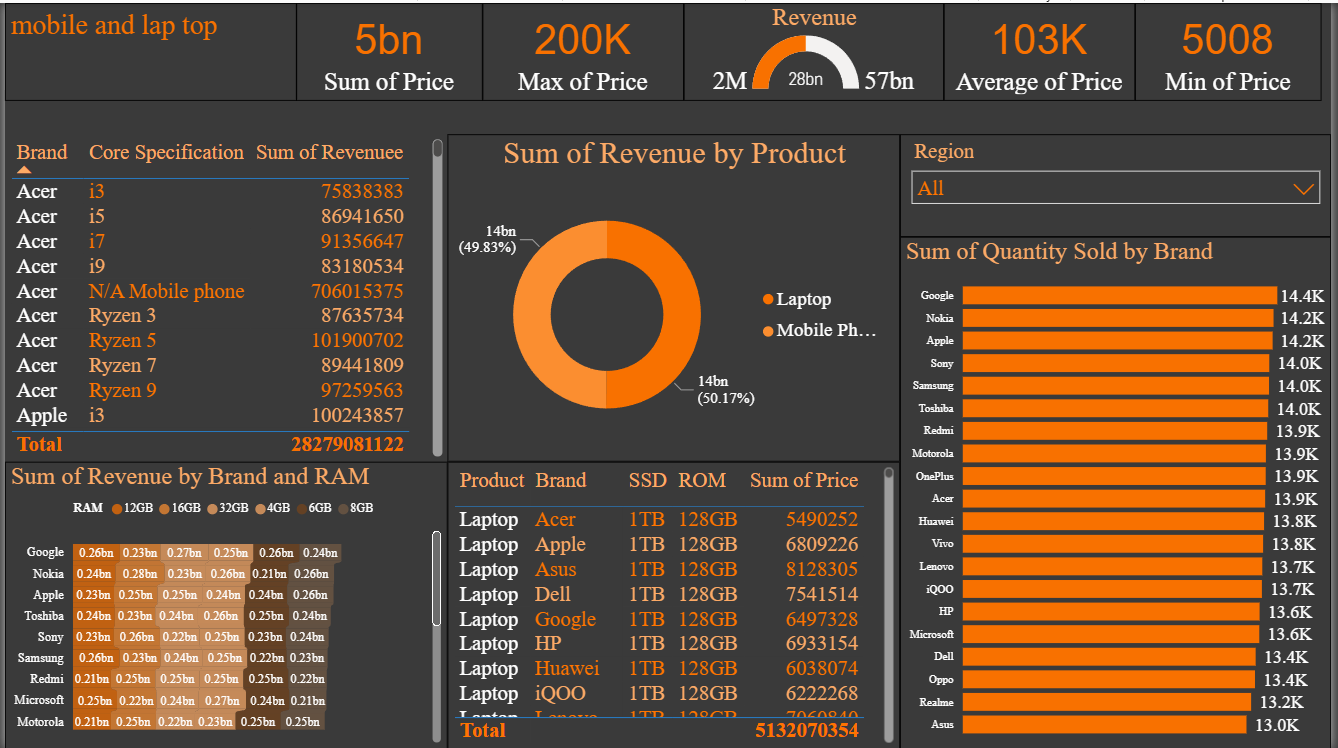

Layout of this report page (visuals, bound fields, positions):
{"tool":"powerbi","page":{"name":"dach board","canvas":[1280,720],"ordinal":0},"visuals":[{"type":"card","fields":{"Values":["Sum(mobile_sales_data.Price)"]},"box":[281.3,0,179.8,94.2],"z":0},{"type":"card","fields":{"Values":["Avg(mobile_sales_data.Price)"]},"box":[906,0,184.6,94.1],"z":1000},{"type":"donutChart","fields":{"Y":["Sum(mobile_sales_data.Revenue)"],"Category":["mobile_sales_data.Product"]},"box":[427.1,126.7,436.7,316.1],"z":2000},{"type":"barChart","fields":{"Category":["mobile_sales_data.Brand"],"Y":["Sum(mobile_sales_data.Revenue)"],"Series":["mobile_sales_data.RAM"]},"box":[0,442.8,427.1,277.5],"z":3000},{"type":"card","fields":{"Values":["Max(mobile_sales_data.Price)"]},"box":[460.9,0,194.2,94.1],"z":4000},{"type":"card","fields":{"Values":["Min(mobile_sales_data.Price)"]},"box":[1090.8,0,179.8,94.2],"z":5000},{"type":"textbox","box":[0,0,281.3,94.2],"z":6000},{"type":"tableEx","fields":{"Values":["mobile_sales_data.Product","mobile_sales_data.Brand","mobile_sales_data.SSD","mobile_sales_data.ROM","Sum(mobile_sales_data.Price)"]},"box":[427.1,442.8,436.7,277.5],"z":7000},{"type":"tableEx","fields":{"Values":["mobile_sales_data.Brand","mobile_sales_data.Core Specification","Sum(mobile_sales_data.Revenue)"]},"box":[0,126.7,427.1,316.1],"z":8000},{"type":"barChart","fields":{"Category":["mobile_sales_data.Brand"],"Y":["Sum(mobile_sales_data.Quantity Sold)"]},"box":[863.8,225.6,416.2,494.6],"z":9000},{"type":"slicer","fields":{"Values":["mobile_sales_data.Region"]},"box":[863.8,126.7,416.2,98.9],"z":10000},{"type":"gauge","fields":{"Y":["Sum(mobile_sales_data.Revenue)"]},"box":[655.1,0,250.9,94.1],"z":11000}]}

Visuals, with their boxes in screenshot pixels (x1, y1, x2, y2), scaled from the page's 1280x720 canvas onto the 1338x748 screenshot:
card - Sum(mobile_sales_data.Price): box(294, 0, 482, 98)
card - Avg(mobile_sales_data.Price): box(947, 0, 1140, 98)
donutChart - Sum(mobile_sales_data.Revenue) x mobile_sales_data.Product: box(446, 132, 903, 460)
barChart - mobile_sales_data.Brand x Sum(mobile_sales_data.Revenue): box(0, 460, 446, 747)
card - Max(mobile_sales_data.Price): box(482, 0, 685, 98)
card - Min(mobile_sales_data.Price): box(1140, 0, 1328, 98)
textbox: box(0, 0, 294, 98)
tableEx - mobile_sales_data.Product x mobile_sales_data.Brand: box(446, 460, 903, 747)
tableEx - mobile_sales_data.Brand x mobile_sales_data.Core Specification: box(0, 132, 446, 460)
barChart - mobile_sales_data.Brand x Sum(mobile_sales_data.Quantity Sold): box(903, 234, 1337, 747)
slicer - mobile_sales_data.Region: box(903, 132, 1337, 234)
gauge - Sum(mobile_sales_data.Revenue): box(685, 0, 947, 98)
